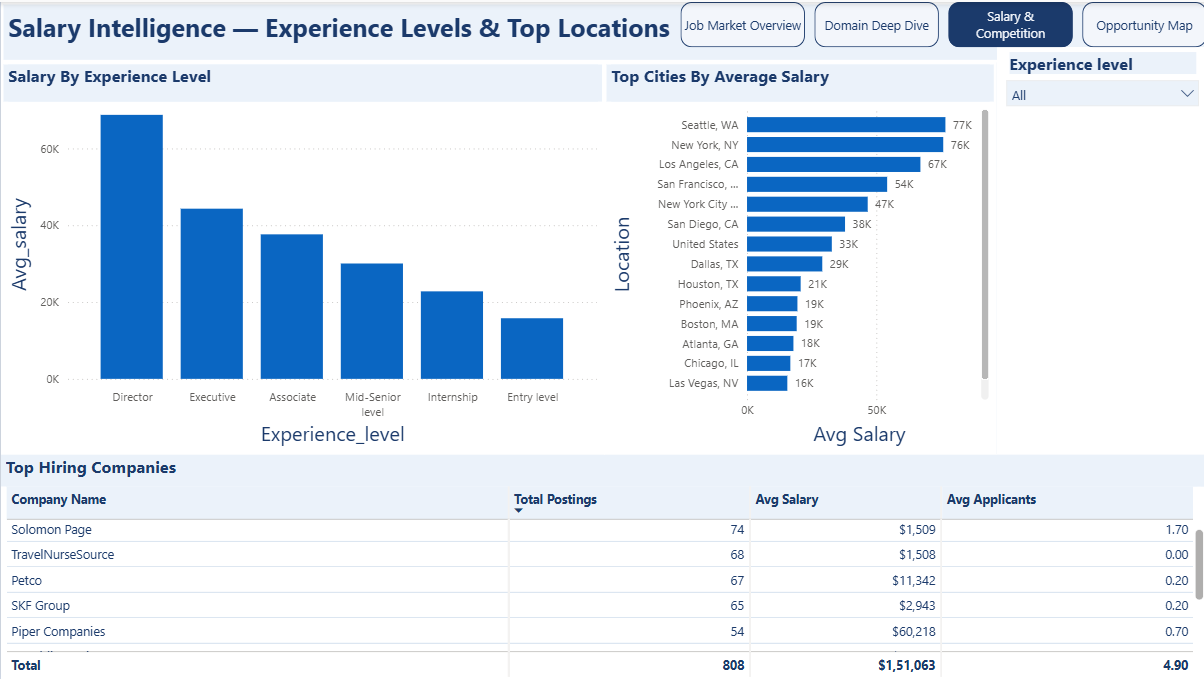

The page's visual inventory and layout, read from the dashboard file:
{"tool":"powerbi","page":{"name":"Salary & Competition","canvas":[1280,720],"ordinal":2},"visuals":[{"type":"textbox","box":[0,0,1280,64],"z":0},{"type":"clusteredBarChart","title":"Top Cities By Average Salary","fields":{"Category":["q4_locations.location"],"Y":["Sum(q4_locations.avg_salary)"]},"box":[640,64,416,416],"z":1000},{"type":"tableEx","title":"Top Hiring Companies","fields":{"Values":["q5_companies.company_name","Sum(q5_companies.total_postings)","Sum(q5_companies.avg_salary)","Sum(q5_companies.avg_applicants)"]},"box":[0,480,1280,240],"z":2000},{"type":"slicer","fields":{"Values":["q3_salary_experience csv.experience_level"]},"box":[1056,48,224,432],"z":3000},{"type":"clusteredColumnChart","title":"Salary By Experience Level","fields":{"Category":["q3_salary_experience csv.experience_level"],"Y":["Sum(q3_salary_experience csv.avg_salary)"]},"box":[0,64,640,416],"z":4000},{"type":"pageNavigator","box":[720,0,560,48],"z":5000}]}

Visuals, with their boxes in screenshot pixels (x1, y1, x2, y2), scaled from the page's 1280x720 canvas onto the 1204x679 screenshot:
textbox: crop(0, 0, 1203, 60)
"Top Cities By Average Salary" clusteredBarChart: crop(602, 60, 993, 453)
"Top Hiring Companies" tableEx: crop(0, 453, 1203, 678)
slicer - q3_salary_experience csv.experience_level: crop(993, 45, 1203, 453)
"Salary By Experience Level" clusteredColumnChart: crop(0, 60, 602, 453)
pageNavigator: crop(677, 0, 1203, 45)
